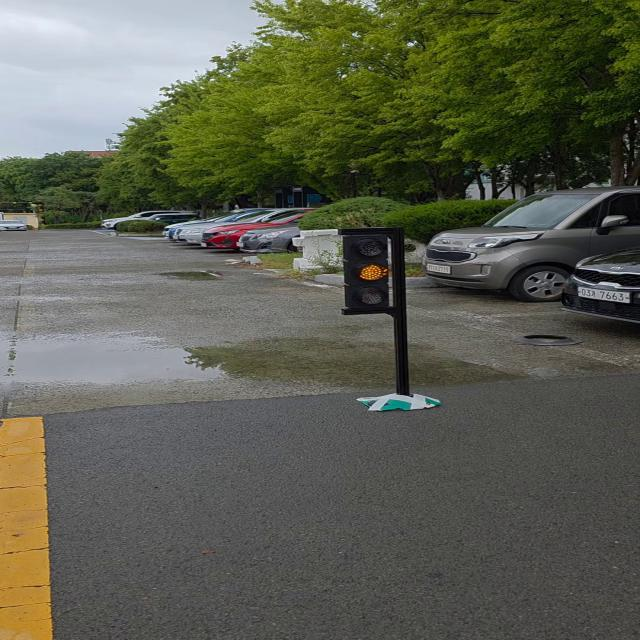yellow: (346, 230, 402, 313)
